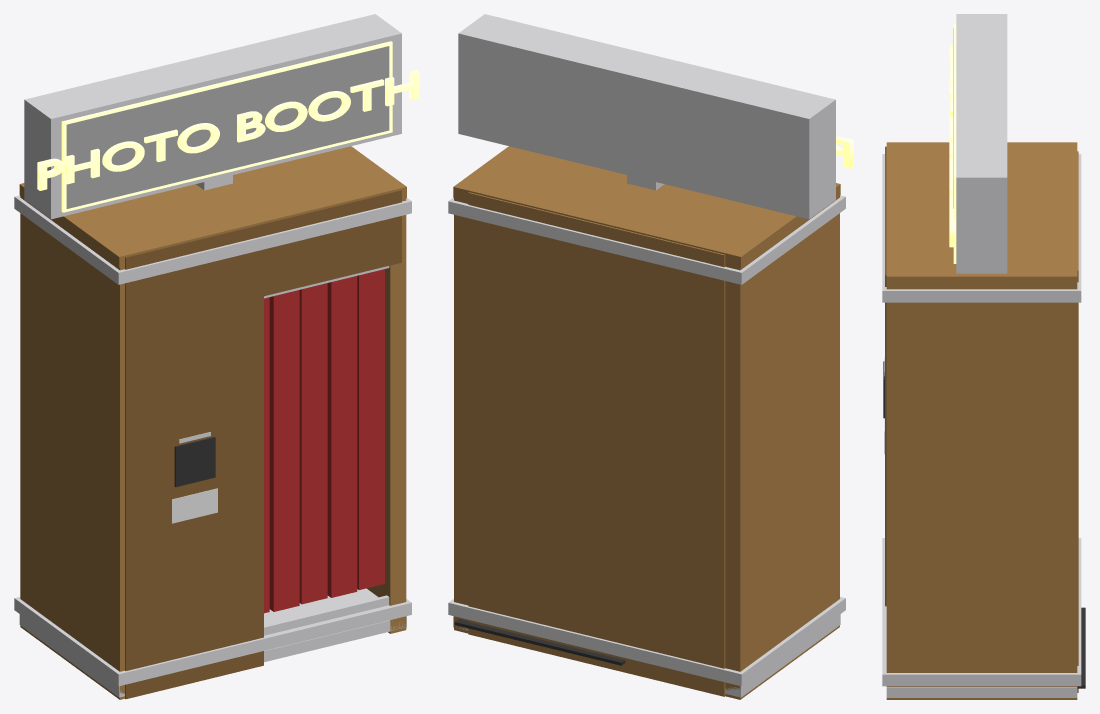
The picture shows the model from 3 angles, left to right: view 1: azimuth 30°, elevation 25°; view 2: azimuth 150°, elevation 25°; view 3: azimuth 270°, elevation 25°; orthographic projection. The views are drawn at different scales.
Visible parts, largest first — view 1: front_L, wall_L, sign_panel, roof, sign_body, front_T, curtain_3, curtain_1, curtain_2, curtain_4, wall_R, trim_B (+9 smaller); view 2: wall_B, sign_body, wall_L, roof, wall_R, trim_B, trim_T, base, floor_base; view 3: wall_R, roof, sign_body, trim_B, trim_T, base, SignText, wall_B, front_L, sg_top, floor_base.
Boxes of the visible parts, x1,y1,x2,y2 form: front_L: [125, 223, 263, 699]; wall_L: [20, 196, 124, 699]; sign_panel: [66, 46, 389, 208]; roof: [19, 146, 406, 267]; sign_body: [24, 14, 401, 219]; front_T: [235, 190, 401, 302]; curtain_3: [327, 276, 357, 597]; curtain_1: [269, 290, 299, 611]; curtain_2: [299, 283, 327, 604]; curtain_4: [357, 269, 384, 589]; wall_R: [367, 188, 406, 633]; trim_B: [14, 588, 411, 686]; wall_B: [468, 192, 725, 696]; sign_body: [458, 14, 835, 219]; wall_L: [725, 196, 839, 699]; roof: [453, 146, 840, 267]; wall_R: [454, 188, 468, 633]; trim_B: [448, 597, 845, 686]; trim_T: [448, 195, 845, 284]; base: [453, 614, 840, 697]; floor_base: [454, 619, 625, 665]; wall_R: [886, 287, 1077, 699]; roof: [886, 142, 1077, 287]; sign_body: [956, 14, 1007, 273]; trim_B: [882, 538, 1081, 686]; trim_T: [882, 154, 1081, 302]; base: [886, 687, 1077, 697]; SignText: [949, 45, 955, 247]; wall_B: [1077, 151, 1078, 692]; front_L: [885, 146, 886, 606]; sg_top: [953, 25, 956, 175]; floor_base: [1077, 607, 1085, 688].
Bounding box in the file's own units: 1.98 × 2.8 × 0.96.
